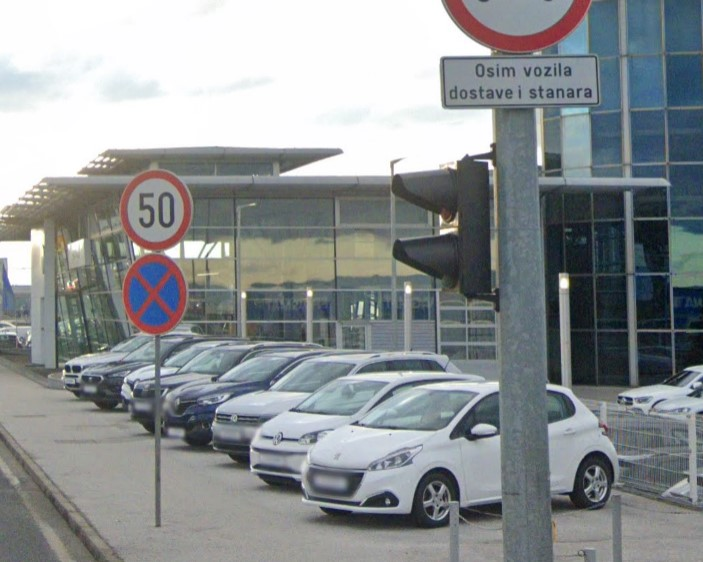Ograničenje brzine 50: (119, 169, 194, 250)
